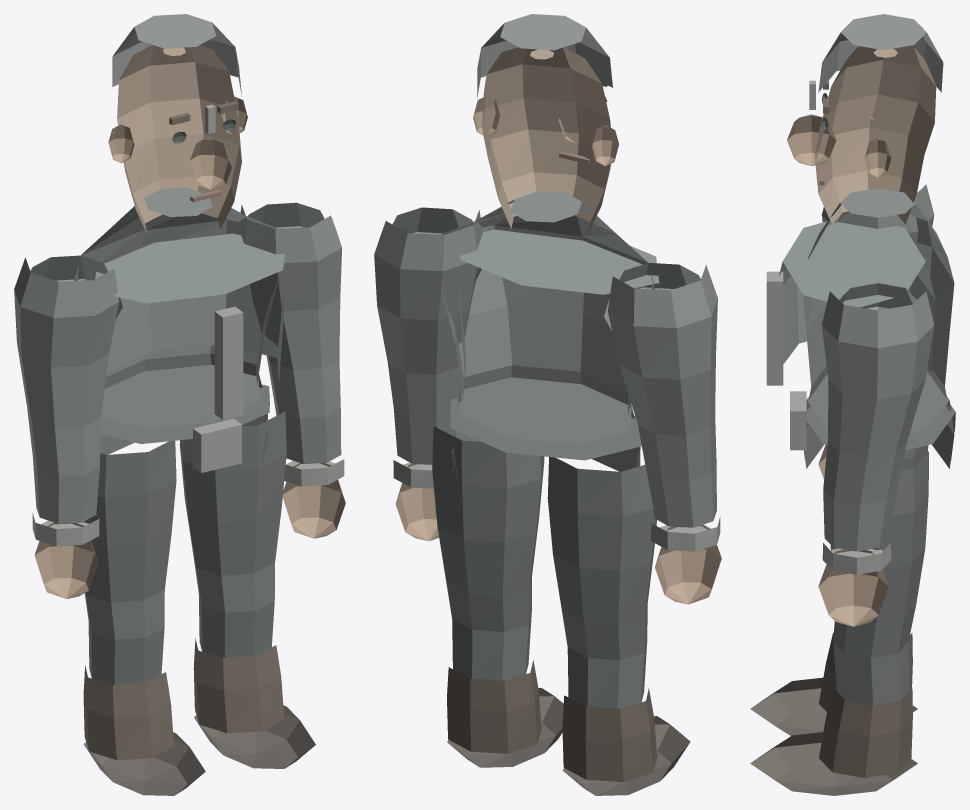
The model's file is warrior_1000_2.glb.
The picture shows the model from 3 angles, left to right: view 1: azimuth 30°, elevation 25°; view 2: azimuth 150°, elevation 25°; view 3: azimuth 270°, elevation 25°; orthographic projection. The views are drawn at different scales.
Parts seen in each view (by area): view 1: leftArm_0, rightLeg_0, leftLeg_0, rightArm_0, body_4, head_0, body_0, body_1, leftLeg_1, rightLeg_1, head_9, leftLeg_2 (+12 smaller); view 2: leftLeg_0, rightLeg_0, leftArm_0, body_0, rightArm_0, head_0, body_1, body_4, rightLeg_1, leftLeg_1, head_9, body_2 (+9 smaller); view 3: rightArm_0, head_0, rightLeg_0, body_4, body_0, rightLeg_1, rightLeg_2, head_9, rightArm_2, leftLeg_2, body_1, body_5 (+9 smaller).
Boxes of the visible parts, x1=… form: leftArm_0: x1=14, y1=257, x2=119, y2=523; rightLeg_0: x1=179, y1=411, x2=286, y2=657; leftLeg_0: x1=84, y1=440, x2=176, y2=684; rightArm_0: x1=237, y1=204, x2=342, y2=463; body_4: x1=95, y1=233, x2=284, y2=382; head_0: x1=117, y1=45, x2=241, y2=234; body_0: x1=74, y1=187, x2=278, y2=458; body_1: x1=100, y1=364, x2=266, y2=468; leftLeg_1: x1=83, y1=666, x2=173, y2=760; rightLeg_1: x1=193, y1=638, x2=284, y2=733; head_9: x1=112, y1=14, x2=241, y2=96; leftLeg_2: x1=84, y1=732, x2=205, y2=795; leftLeg_0: x1=547, y1=457, x2=656, y2=708; rightLeg_0: x1=432, y1=426, x2=544, y2=680; leftArm_0: x1=608, y1=265, x2=717, y2=527; body_0: x1=440, y1=191, x2=654, y2=475; rightArm_0: x1=374, y1=210, x2=482, y2=464; head_0: x1=482, y1=47, x2=610, y2=233; body_1: x1=453, y1=377, x2=638, y2=484; body_4: x1=459, y1=229, x2=659, y2=378; rightLeg_1: x1=447, y1=660, x2=541, y2=753; leftLeg_1: x1=562, y1=688, x2=657, y2=781; head_9: x1=477, y1=14, x2=612, y2=98; body_2: x1=449, y1=398, x2=641, y2=460; rightArm_0: x1=821, y1=291, x2=934, y2=551; head_0: x1=814, y1=46, x2=936, y2=224; rightLeg_0: x1=830, y1=451, x2=928, y2=705; body_4: x1=779, y1=221, x2=935, y2=373; body_0: x1=802, y1=188, x2=954, y2=459; rightLeg_1: x1=819, y1=687, x2=912, y2=778; rightLeg_2: x1=750, y1=732, x2=917, y2=795; head_9: x1=818, y1=14, x2=943, y2=92; rightArm_2: x1=818, y1=549, x2=888, y2=626; leftLeg_2: x1=750, y1=677, x2=917, y2=735; body_1: x1=804, y1=372, x2=954, y2=468; body_5: x1=766, y1=271, x2=783, y2=385.
Size of the model in its own units: 0.774 by 1.68 by 0.431.
